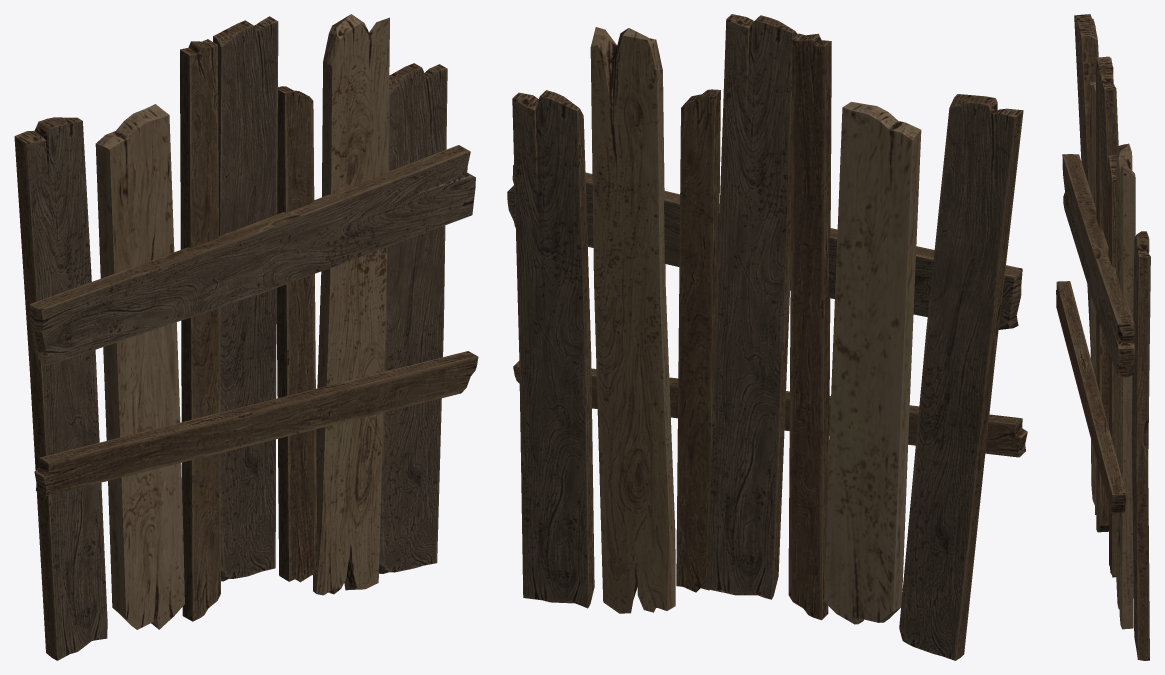
Rendered from SM_WoodenFence_2.fbx.
3 renders of one model, left to right at view 1: azimuth 30°, elevation 25°; view 2: azimuth 150°, elevation 25°; view 3: azimuth 270°, elevation 25°, orthographic. The views are drawn at different scales.
Visible parts, largest first — view 1: SM_WoodenFence_2; view 2: SM_WoodenFence_2; view 3: SM_WoodenFence_2.
Boxes of the visible parts, left/top/right/bottom form: SM_WoodenFence_2: left=14, top=14, right=478, bottom=660; SM_WoodenFence_2: left=507, top=14, right=1027, bottom=660; SM_WoodenFence_2: left=1056, top=14, right=1150, bottom=660.
Bounding box in the file's own units: 120 × 146 × 24.9.
